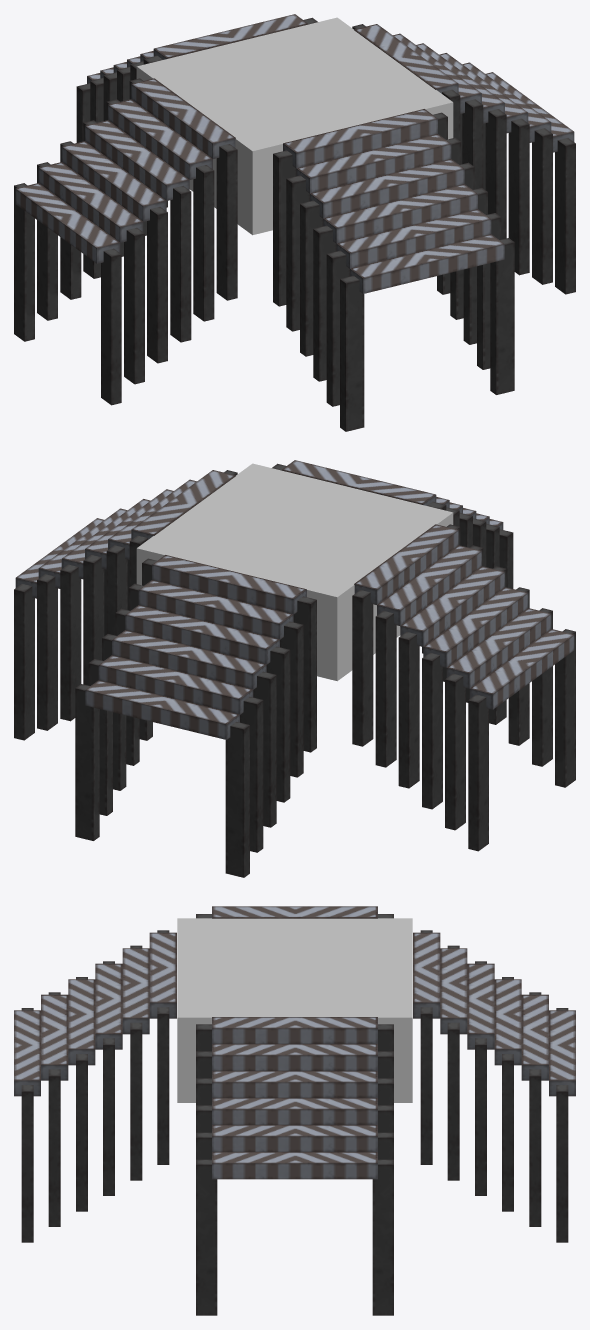
File: elevation2.fbx
The picture shows the model from 3 angles, top to bottom: view 1: azimuth 30°, elevation 25°; view 2: azimuth 150°, elevation 25°; view 3: azimuth 270°, elevation 25°; orthographic projection.
Visible parts, largest first — view 1: 1.002, 1.003, Cube.004, 1.109, 1.001; view 2: 1.001, 1.003, Cube.004, 1.109, 1.002; view 3: 1.109, Cube.004, 1.001, 1.002, 1.003.
Boxes of the visible parts, x1,y1,x2,y2 form: 1.002: (273, 109, 514, 431); 1.003: (14, 78, 237, 405); Cube.004: (136, 17, 453, 235); 1.109: (352, 24, 575, 294); 1.001: (76, 14, 317, 207); 1.001: (75, 555, 316, 877); 1.003: (352, 524, 575, 851); Cube.004: (136, 463, 453, 681); 1.109: (14, 470, 237, 740); 1.002: (272, 460, 513, 653); 1.109: (196, 1017, 393, 1315); Cube.004: (177, 918, 412, 1102); 1.001: (413, 930, 575, 1242); 1.002: (14, 930, 176, 1242); 1.003: (196, 906, 393, 918).
Size of the model in its own units: 342 by 157 by 343.
